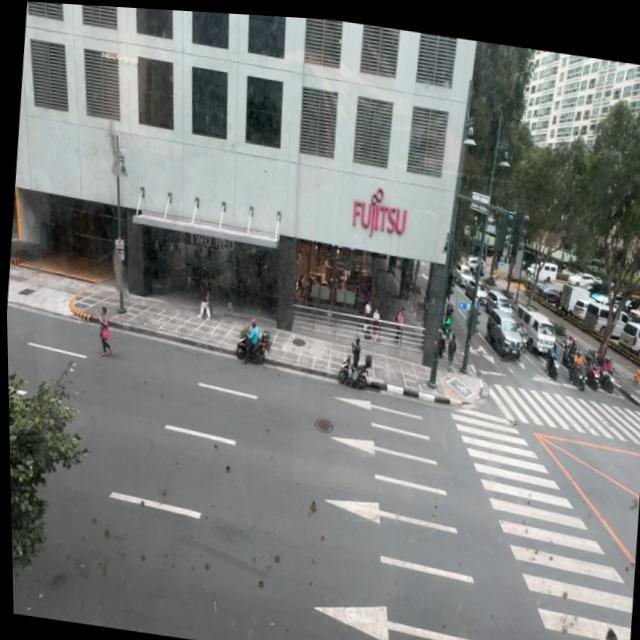jaywalking: (94, 304, 116, 357)
